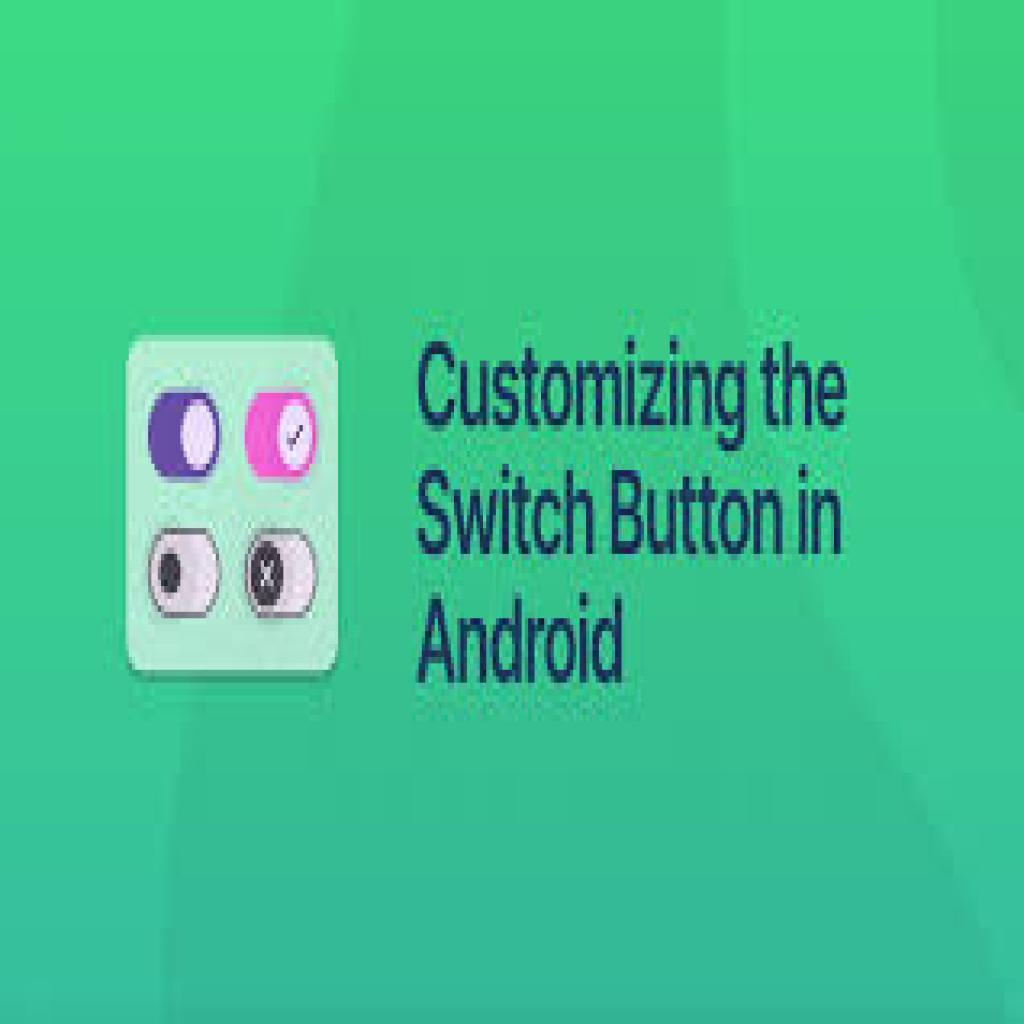switch: (142, 382, 228, 495), (147, 514, 224, 629), (240, 386, 324, 487), (242, 527, 323, 626)
